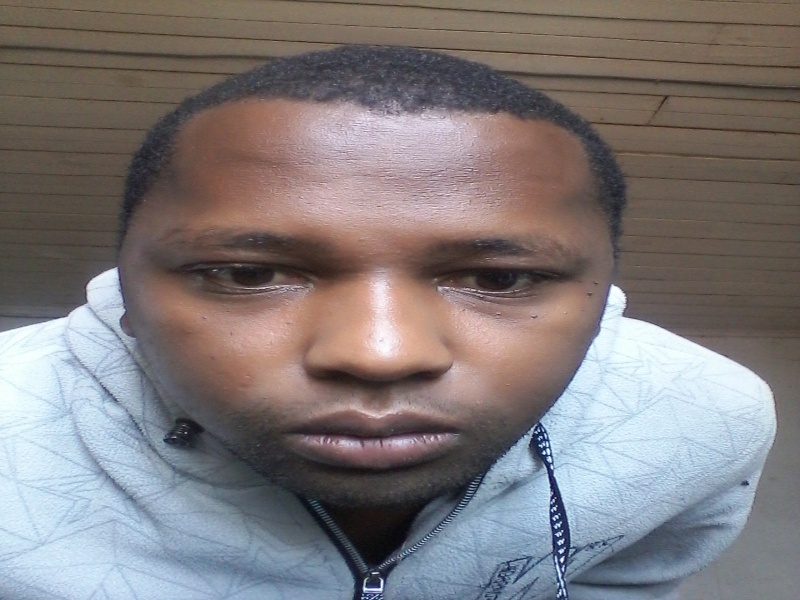TsisyArotava: (95, 54, 626, 540)
